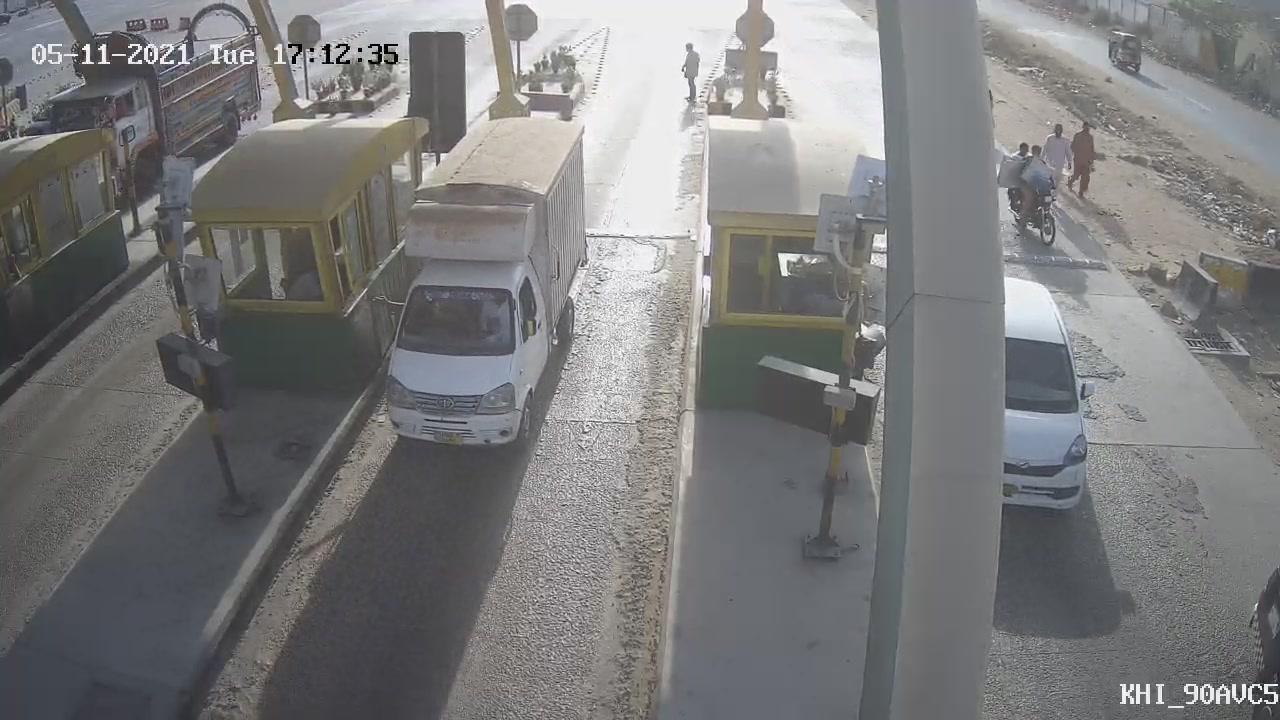F2: (353, 98, 592, 464)
